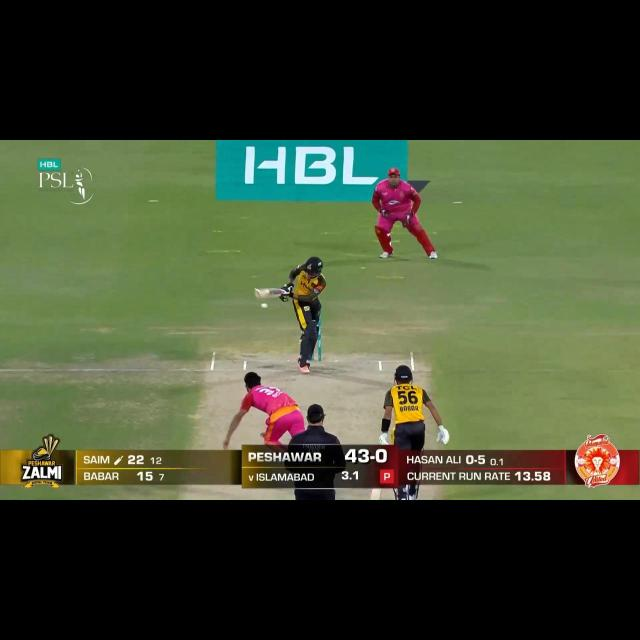bat: (254, 286, 289, 299), (371, 488, 383, 501)
toe: (255, 287, 262, 300), (371, 494, 382, 500)
